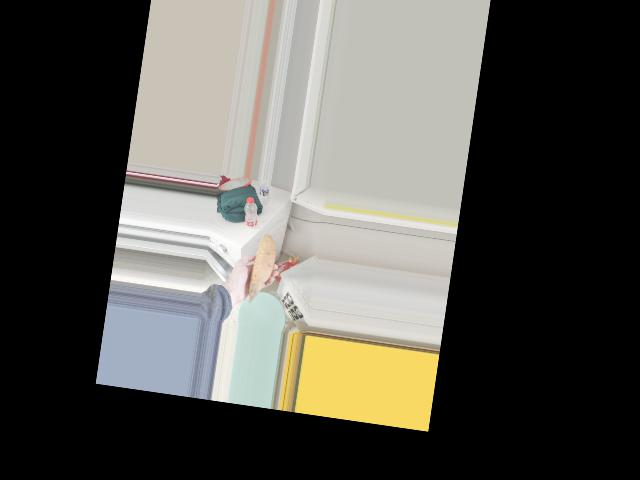sweet_potato: (248, 234, 279, 295)
